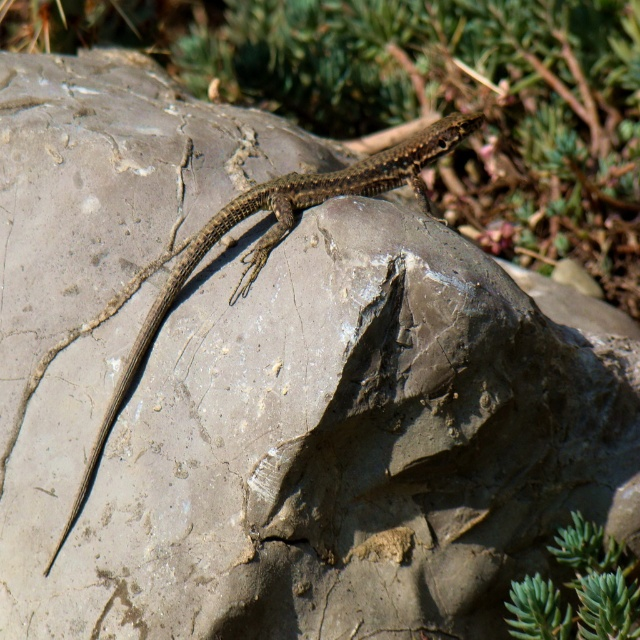Lizard: (30, 92, 526, 562)
